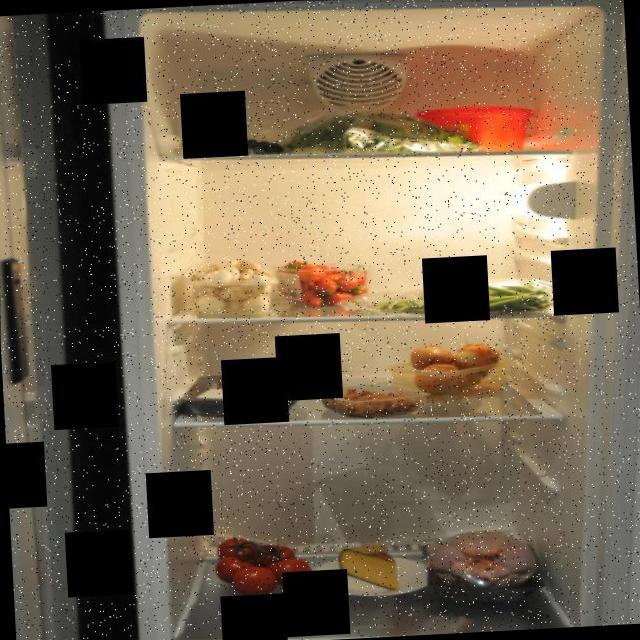Carne pollo: (418, 522, 550, 608)
Carne vacuno: (197, 372, 286, 411)
Cebolla: (406, 334, 502, 396)
Champiñones: (174, 256, 286, 320)
Gambas/Langostinos: (316, 378, 426, 424)
Mantequilla: (425, 102, 540, 155)
Queso: (336, 538, 406, 596)
Tomate: (211, 532, 315, 604)
